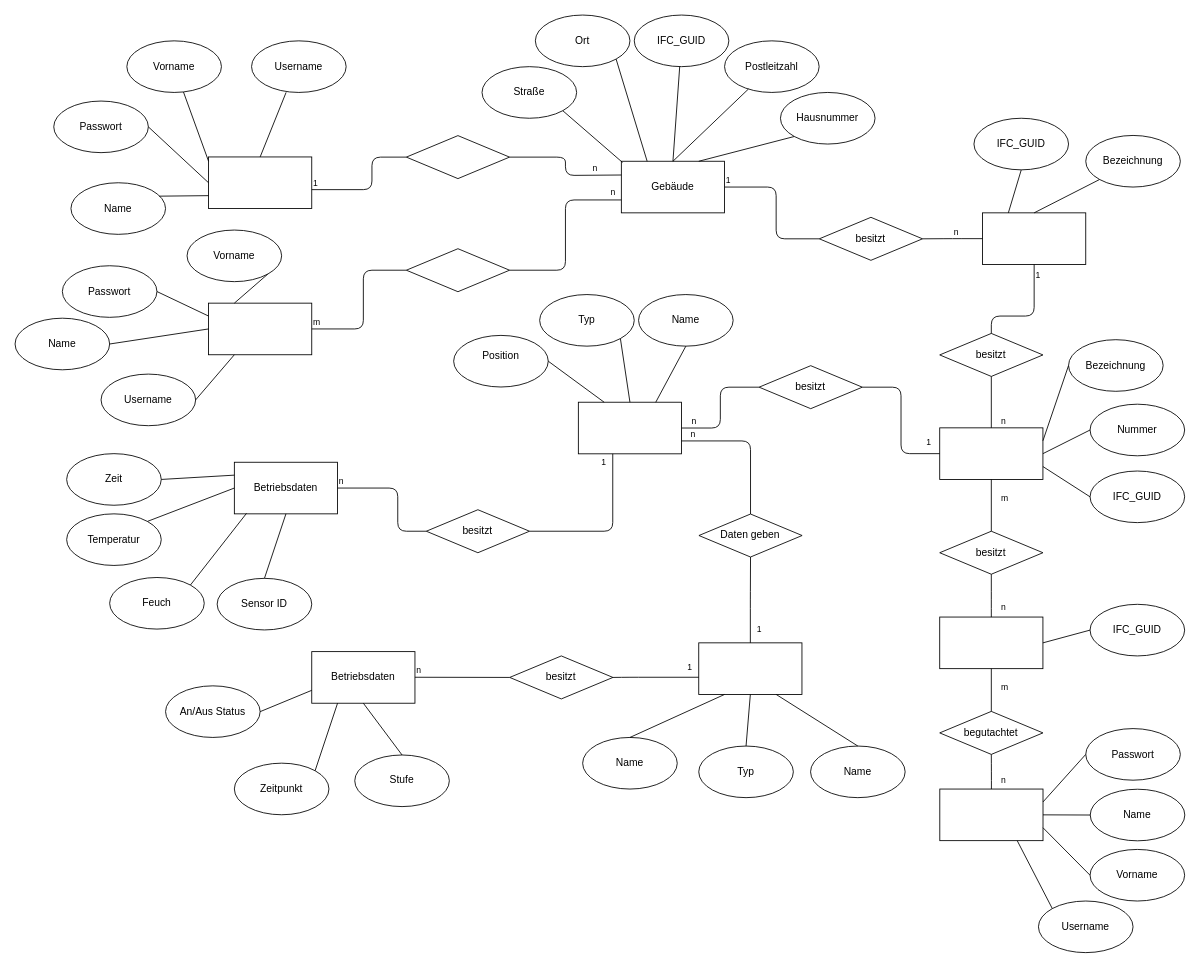
Image size: 1201x968. Some labels were removed from this diagram. Here are the shapes that lost their labels. From the top down, the box of each, then its label:
(405, 135, 510, 179): zuständig für
(208, 156, 312, 209): Bauleiter
(982, 212, 1086, 264): Stockwerk
(405, 248, 510, 292): Daten bekommen
(208, 302, 312, 355): Nutzer
(577, 401, 682, 454): Sensor
(939, 427, 1043, 479): Raum
(939, 616, 1043, 669): Wand
(698, 642, 802, 694): HAVC-Anlage
(939, 788, 1043, 841): Gutachter
